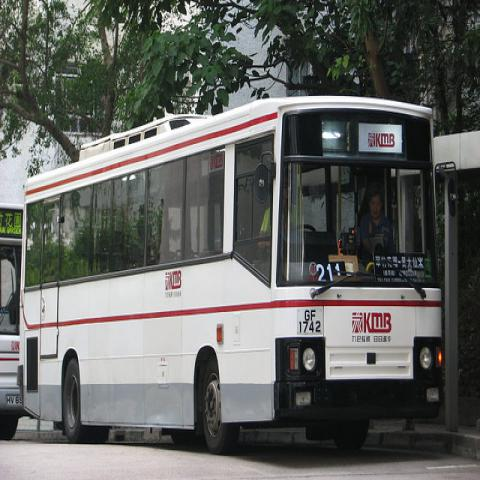bus: (18, 99, 444, 449), (0, 201, 24, 442)
